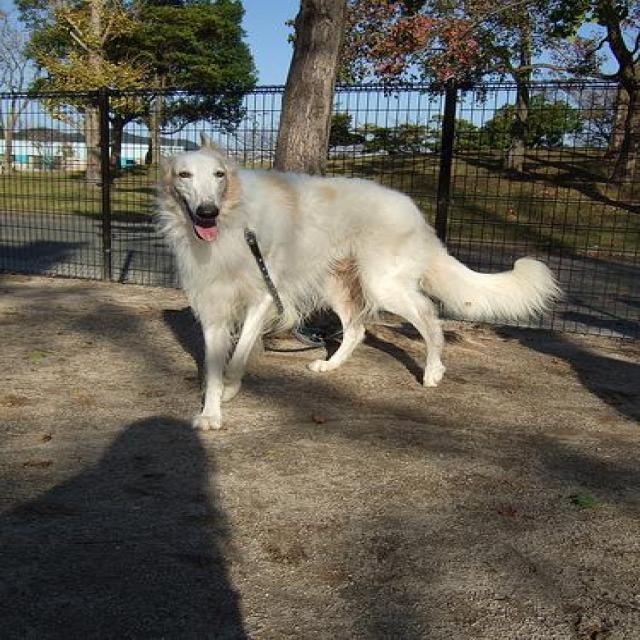adult_dog: (150, 133, 569, 434)
